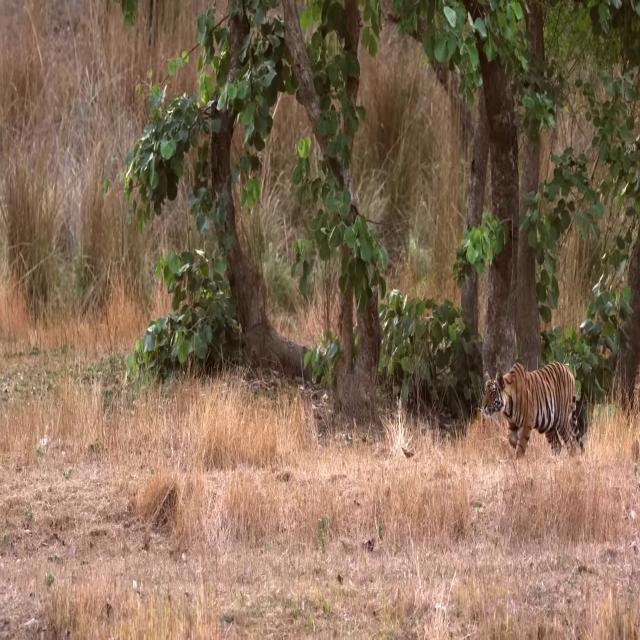tiger: (480, 362, 592, 461)
